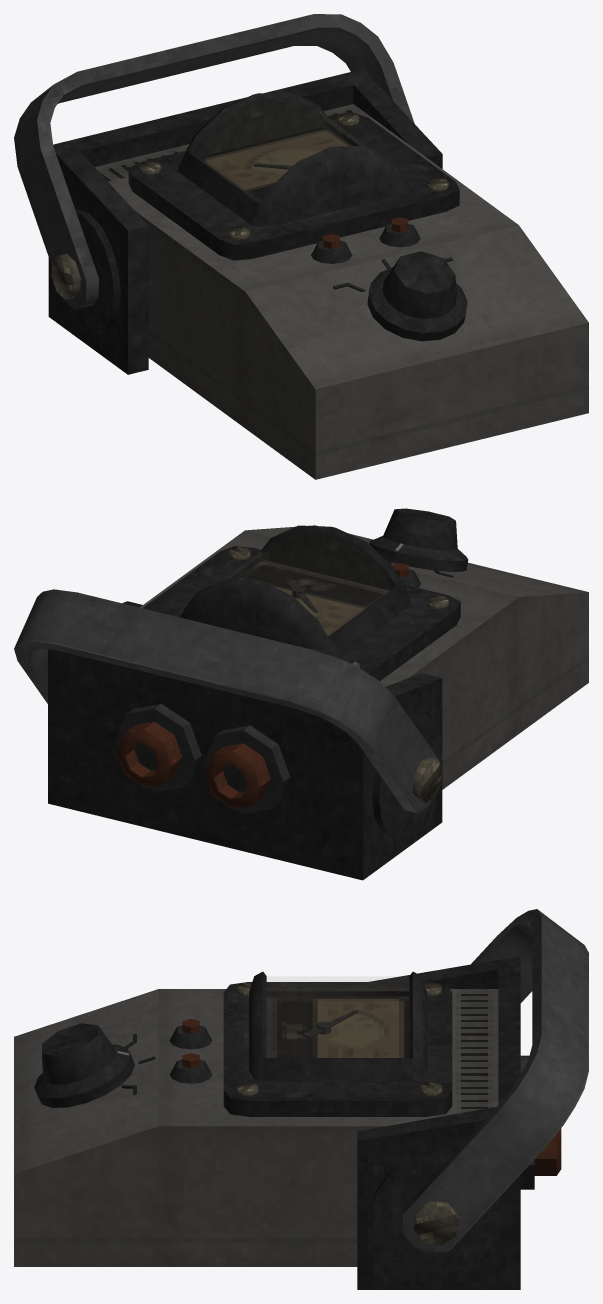
File: signal_receiver_etx_2.glb
3 renders of one model, top to bottom at view 1: azimuth 30°, elevation 25°; view 2: azimuth 150°, elevation 25°; view 3: azimuth 270°, elevation 25°, orthographic. The views are drawn at different scales.
Visible parts, largest first — view 1: signal_receiver_etx_2, signal_receiver_etx_2_knob_child; view 2: signal_receiver_etx_2, signal_receiver_etx_2_knob_child; view 3: signal_receiver_etx_2, signal_receiver_etx_2_knob_child.
Boxes of the visible parts, x1,y1,x2,y2 form: signal_receiver_etx_2: (14,14,588,479); signal_receiver_etx_2_knob_child: (367,251,467,341); signal_receiver_etx_2: (14,525,588,880); signal_receiver_etx_2_knob_child: (369,508,468,571); signal_receiver_etx_2: (14,909,588,1289); signal_receiver_etx_2_knob_child: (34,1023,134,1107).
Size of the model in its own units: 0.2499 by 0.1478 by 0.3284.
Materials: 3 (3 with a texture image).
